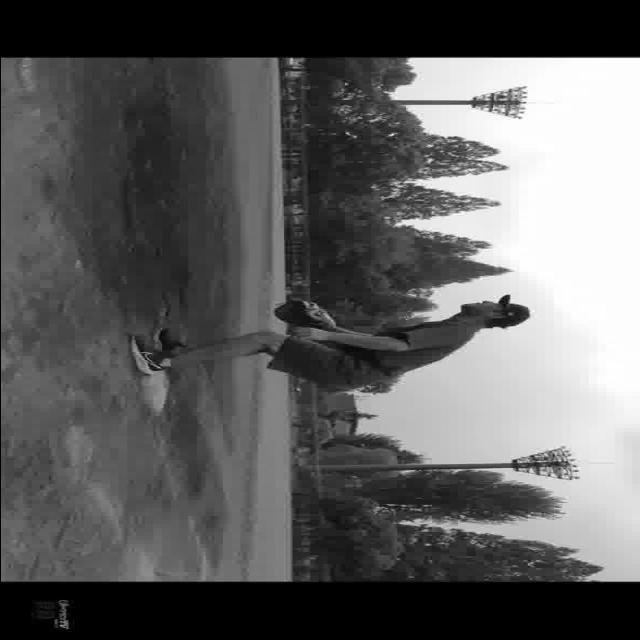base: (145, 370, 167, 418)
baseball_glove: (268, 298, 332, 335)
shoe: (125, 334, 167, 372), (149, 330, 183, 358)
